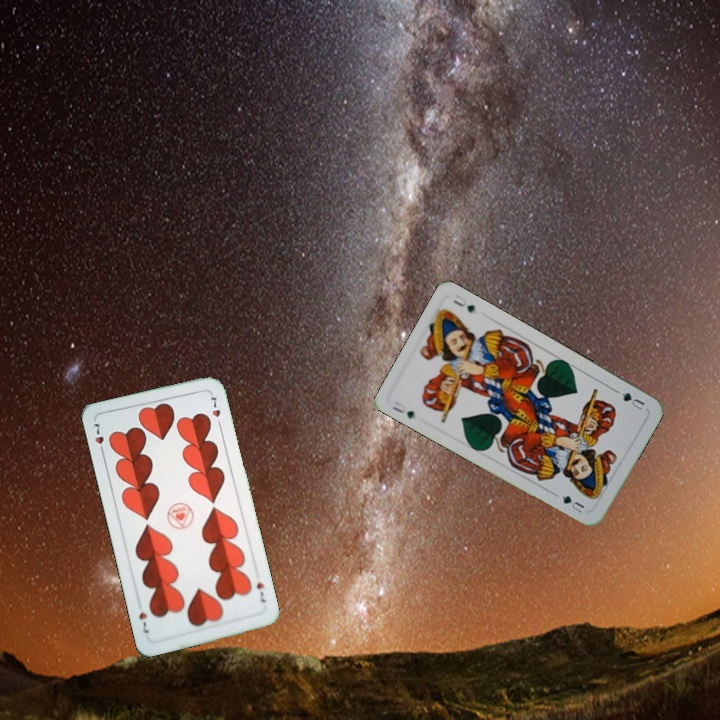GU: (618, 388, 647, 414), (389, 399, 417, 422)
H7: (89, 419, 107, 458), (252, 578, 268, 605)
